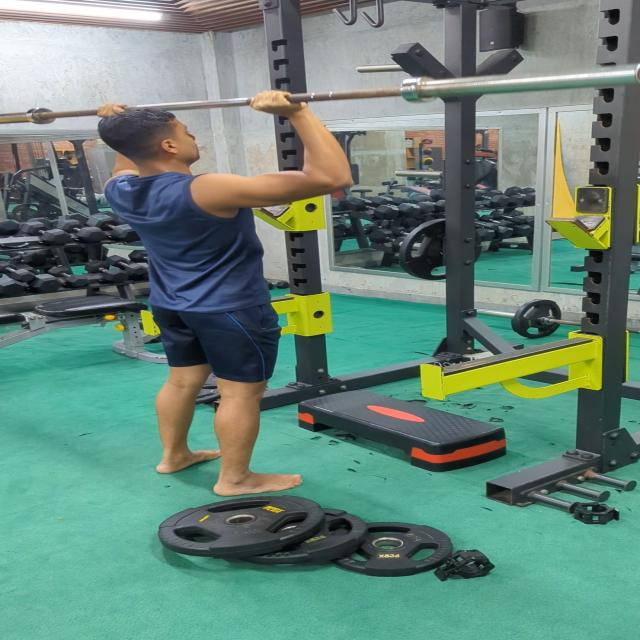Normal_OverheadPress: (86, 84, 350, 498)
